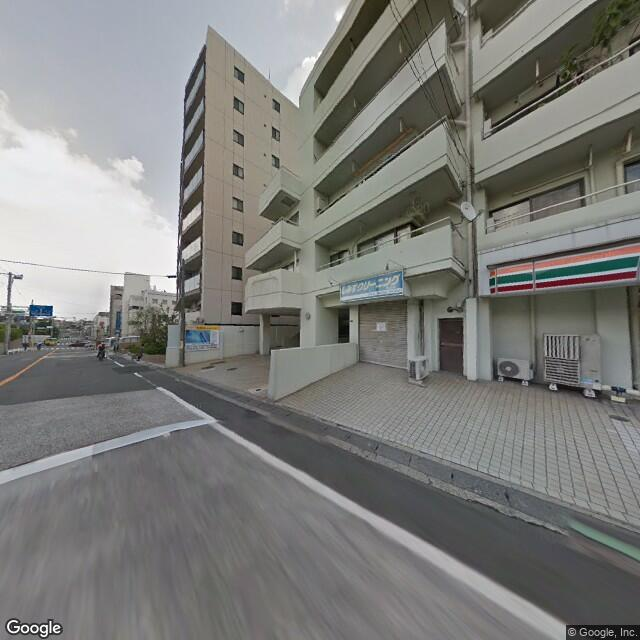7-eleven: (490, 233, 639, 298)
